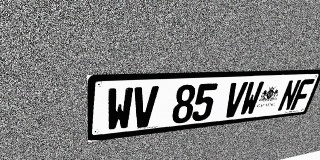5: (191, 83, 218, 122)
8: (171, 84, 198, 124)
F: (290, 79, 315, 110)
N: (277, 79, 302, 112)
V: (131, 86, 159, 129), (222, 82, 248, 118)
W: (106, 87, 134, 132), (238, 81, 265, 116)
